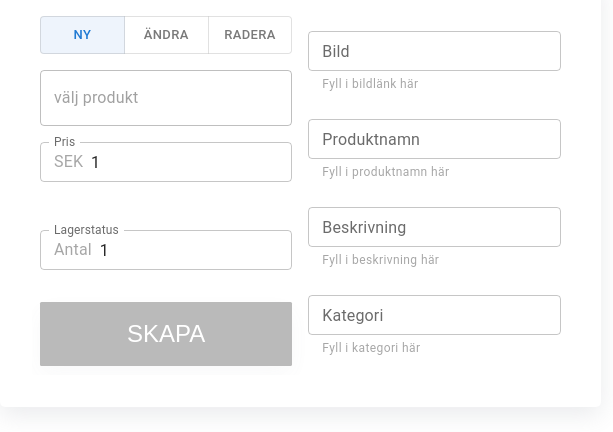
Test case: AdminCms Component › should show informative message if product stock value input is invalid
In the number field labelled "Lagerstatus": (196, 250) x1=100 y1=230 x2=292 y2=270, type "1209"
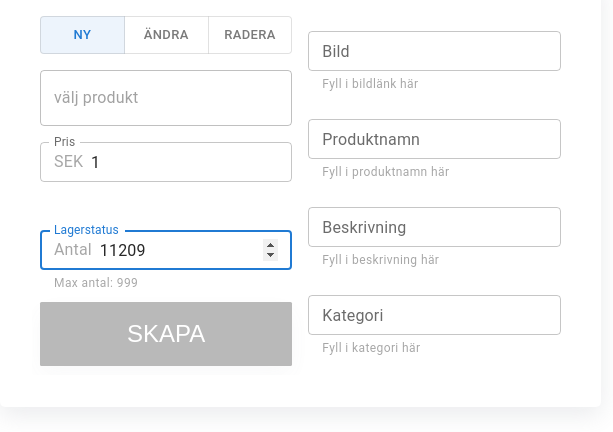
Check: the text "Max antal: 999" is shown, box x1=54 y1=276 x2=138 y2=290
